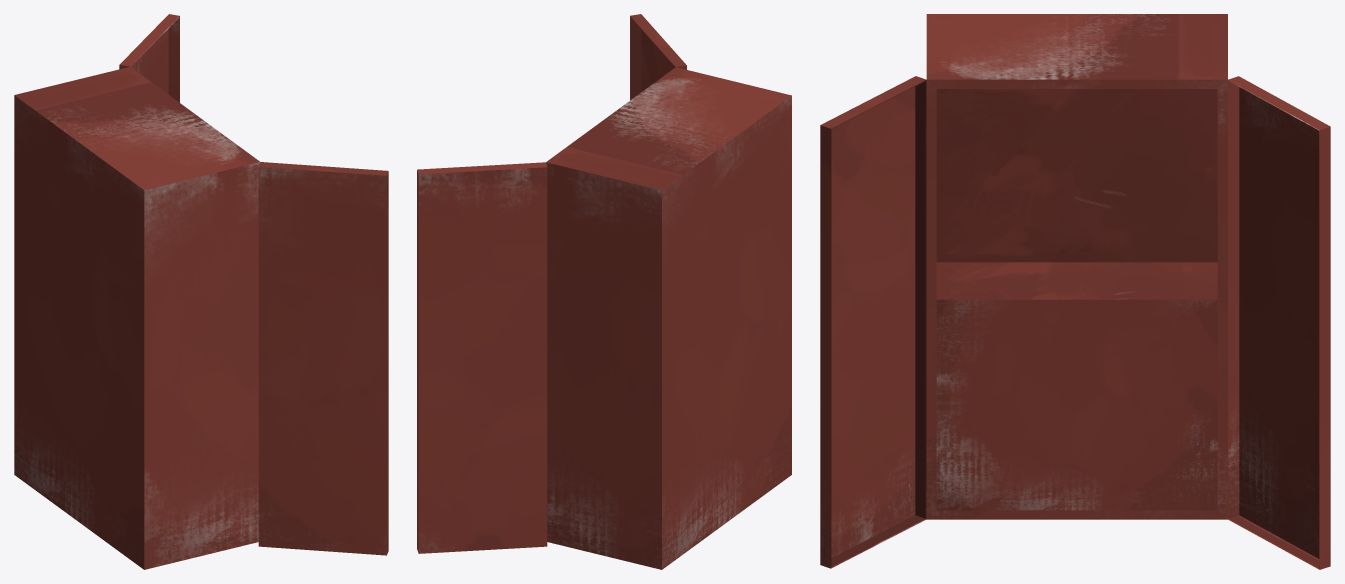
File: Pausemenu_box01.fbx
3 views of the same model, side by side, from view 1: azimuth 30°, elevation 25°; view 2: azimuth 150°, elevation 25°; view 3: azimuth 270°, elevation 25° (orthographic). The views are drawn at different scales.
Visible parts, largest first — view 1: Pausemenu_box01, ElectricalDoor.02, ElectricalDoor.01; view 2: Pausemenu_box01, ElectricalDoor.01, ElectricalDoor.02; view 3: Pausemenu_box01, ElectricalDoor.02, ElectricalDoor.01.
Boxes of the visible parts, left/top/right/bottom form: Pausemenu_box01: left=14, top=66, right=260, bottom=569; ElectricalDoor.02: left=258, top=162, right=388, bottom=555; ElectricalDoor.01: left=119, top=14, right=179, bottom=102; Pausemenu_box01: left=546, top=67, right=791, bottom=569; ElectricalDoor.01: left=417, top=162, right=547, bottom=553; ElectricalDoor.02: left=630, top=14, right=686, bottom=100; Pausemenu_box01: left=926, top=14, right=1227, bottom=519; ElectricalDoor.02: left=820, top=76, right=926, bottom=568; ElectricalDoor.01: left=1228, top=76, right=1330, bottom=569.
Size of the model in its own units: 1.13 by 2 by 2.1.
Materials: 1 (1 with a texture image).
